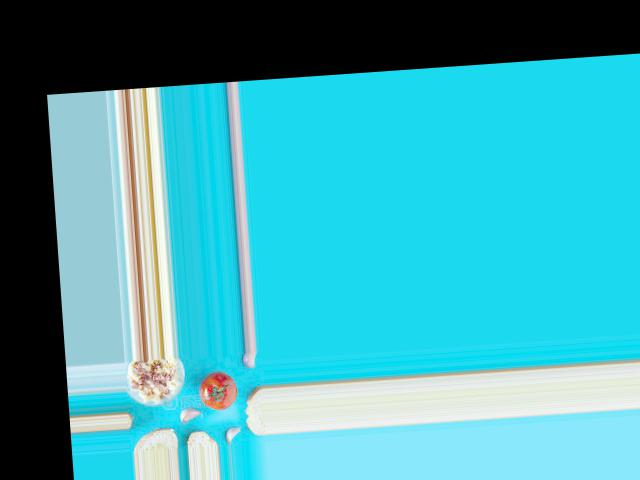tomato: (200, 370, 239, 411)
